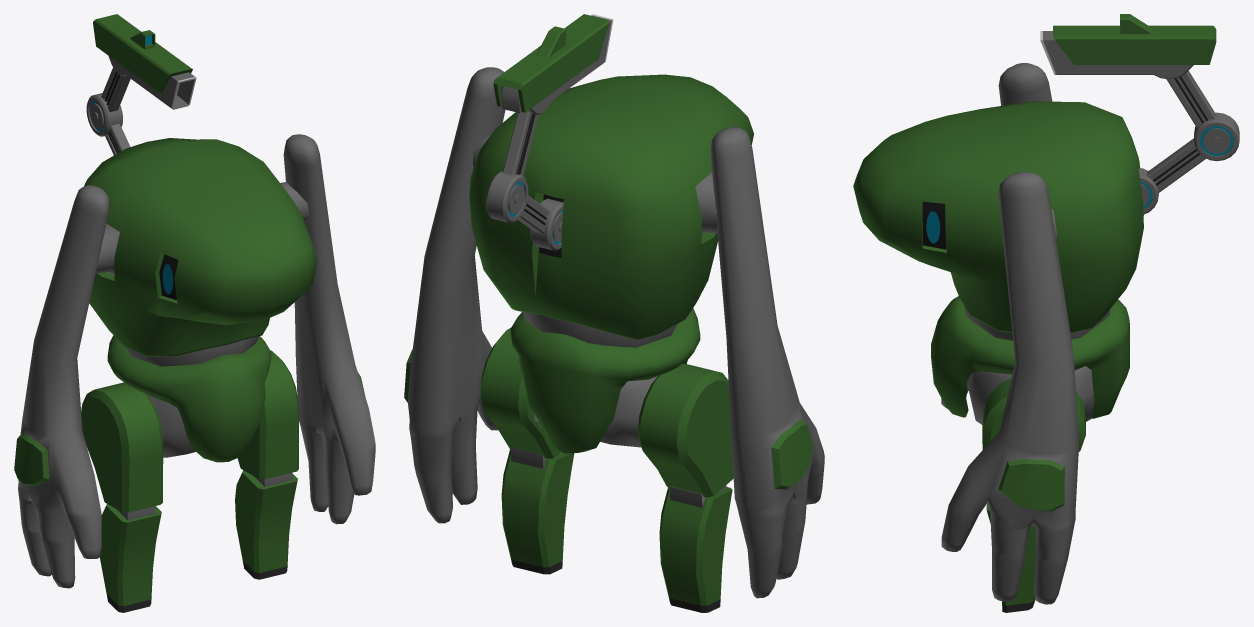
The model's file is Wait.fbx.
The picture shows the model from 3 angles, left to right: view 1: azimuth 30°, elevation 25°; view 2: azimuth 150°, elevation 25°; view 3: azimuth 270°, elevation 25°; orthographic projection. The views are drawn at different scales.
Visible parts, largest first — view 1: atama3, L_ude3, L_ude4, kosi2, L_asi7, L_asi9, pCylinder17, L_asi8, L_asi10, pCylinder19, pCylinder18; view 2: atama3, L_ude3, L_ude4, kosi2, L_asi7, L_asi8, L_asi9, pCylinder17, L_asi10, pCylinder19, pCylinder18, pCylinder16 (+1 smaller); view 3: atama3, L_ude4, kosi2, pCylinder17, L_ude3, pCylinder19, L_asi10, pCylinder15, L_asi9, pCylinder18, pCylinder16.
Boxes of the visible parts, x1,y1,x2,y2 form: atama3: (84, 138, 317, 366); L_ude3: (14, 185, 109, 588); L_ude4: (283, 134, 375, 524); kosi2: (107, 335, 271, 462); L_asi7: (81, 382, 163, 520); L_asi9: (235, 470, 297, 579); pCylinder17: (93, 14, 196, 109); L_asi8: (100, 504, 161, 612); L_asi10: (237, 350, 298, 486); pCylinder19: (86, 93, 122, 136); pCylinder18: (101, 67, 130, 111); atama3: (469, 74, 753, 347); L_ude3: (710, 127, 824, 598); L_ude4: (404, 67, 505, 523); kosi2: (510, 308, 700, 453); L_asi7: (638, 363, 733, 507); L_asi8: (659, 487, 732, 612); L_asi9: (501, 449, 574, 574); pCylinder17: (493, 14, 613, 114); L_asi10: (480, 327, 561, 468); pCylinder19: (486, 171, 528, 223); pCylinder18: (502, 111, 538, 175); pCylinder16: (530, 198, 563, 250); atama3: (853, 101, 1143, 340); L_ude4: (941, 172, 1078, 604); kosi2: (931, 296, 1129, 424); pCylinder17: (1040, 14, 1216, 79); L_ude3: (941, 63, 1052, 408); pCylinder19: (1194, 112, 1239, 161); L_asi10: (982, 378, 1085, 451); pCylinder15: (1147, 138, 1205, 192); L_asi9: (986, 504, 1035, 612); pCylinder18: (1166, 70, 1215, 128); pCylinder16: (1138, 168, 1158, 214).
Size of the model in its own units: 2.3 by 3.43 by 2.17.
